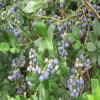Blueberry leaf: (21, 0, 43, 14), (35, 18, 47, 39), (31, 38, 47, 52), (26, 72, 43, 85), (71, 23, 82, 42), (92, 18, 100, 39), (82, 42, 97, 53), (36, 52, 45, 69), (37, 84, 46, 99), (8, 33, 16, 49), (46, 38, 54, 52), (59, 62, 67, 76), (0, 42, 9, 54), (48, 25, 55, 40), (55, 88, 65, 95)
